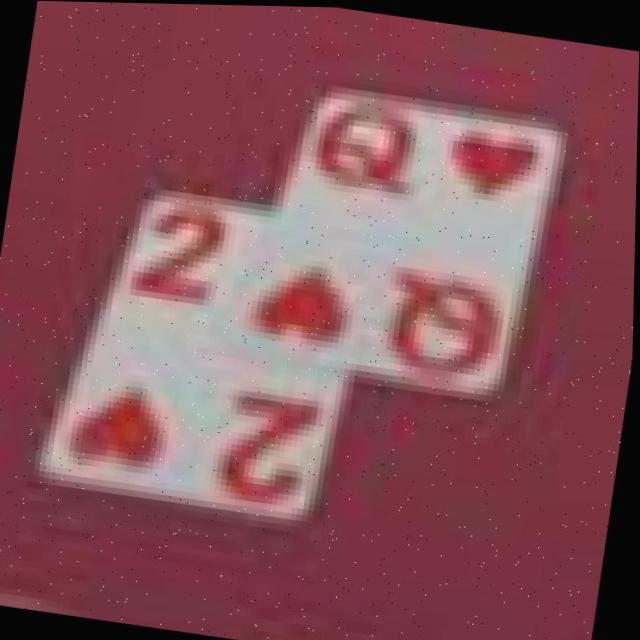Card-2: (40, 191, 348, 518)
Card-Q: (230, 90, 563, 391)
